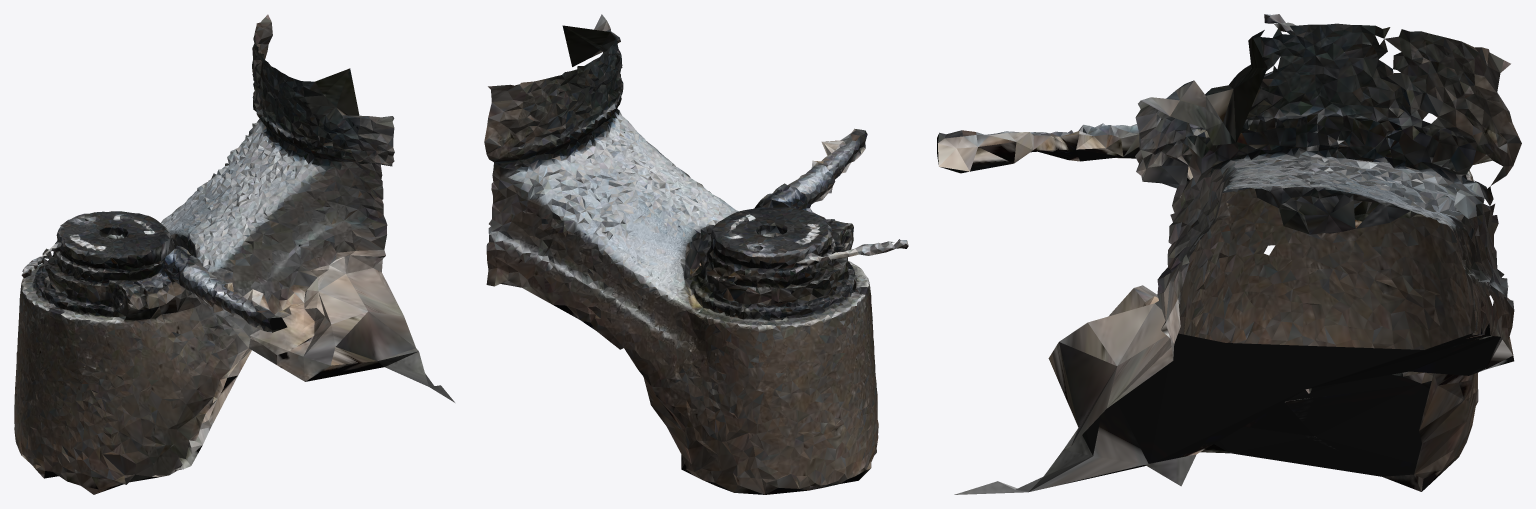
File: reference.glb
3 renders of one model, left to right at view 1: azimuth 30°, elevation 25°; view 2: azimuth 150°, elevation 25°; view 3: azimuth 270°, elevation 25°, orthographic. The views are drawn at different scales.
Parts seen in each view (by area): view 1: texturedMesh; view 2: texturedMesh; view 3: texturedMesh.
Boxes of the visible parts, x1,y1,x2,y2 form: texturedMesh: (14, 14, 454, 494); texturedMesh: (484, 14, 908, 494); texturedMesh: (937, 14, 1521, 494).
Size of the model in its own units: 83.25 by 84.45 by 79.07.
Materials: 6 (6 with a texture image).
